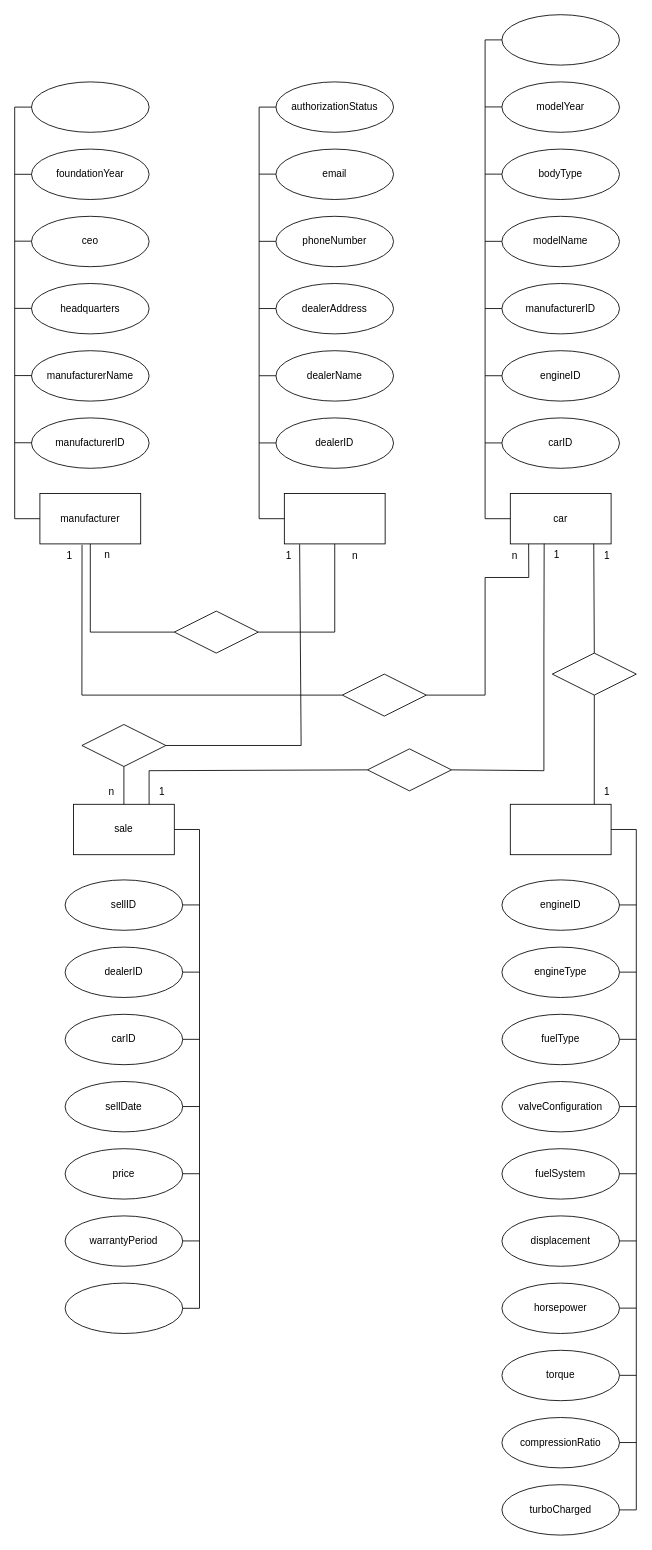
Image size: 652x1550. Some labels were removed from this diagram. The shapes that lost their labels are listed below. From the top down, each one's centre as x and y in pixels, then its label:
point 560,39: modelWeight
point 90,106: revenue
point 334,518: dealer
point 215,631: продают
point 593,673: содержит
point 383,694: производится
point 123,745: продал
point 409,769: продана
point 560,829: engine
point 123,1308: paymentMethod
